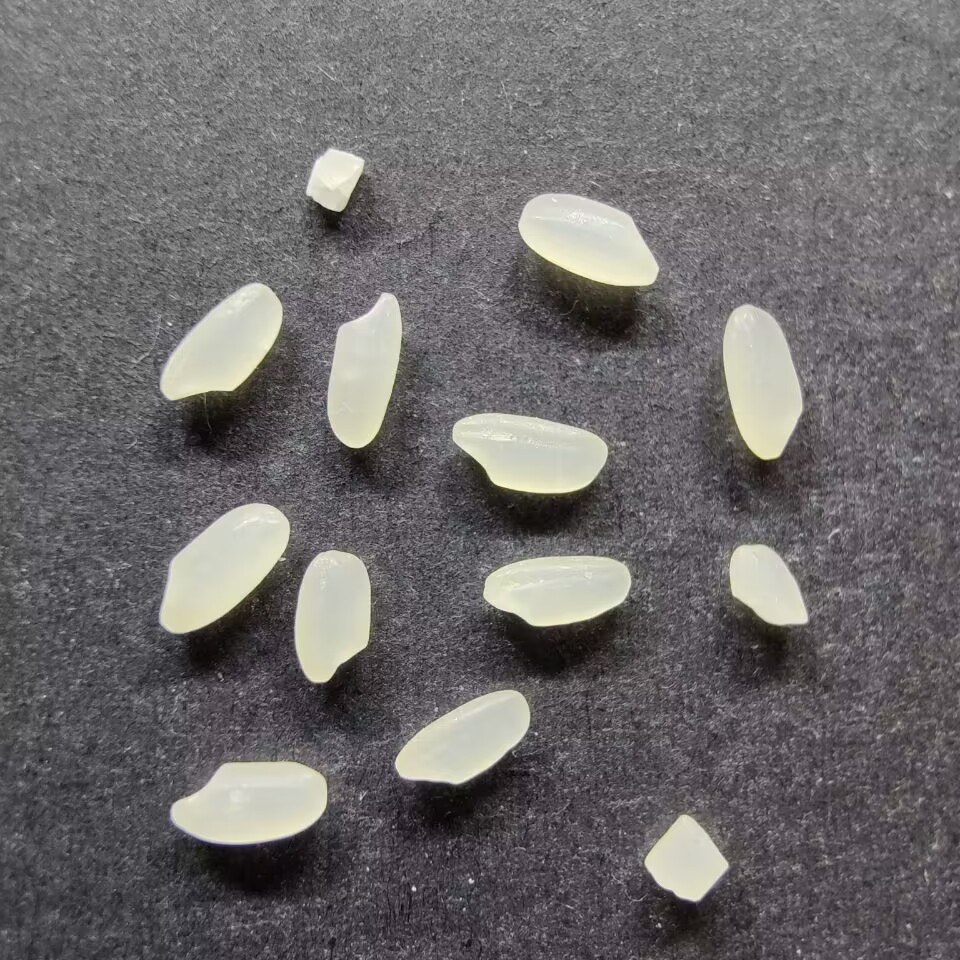broken: (642, 811, 732, 904), (727, 543, 811, 628), (302, 147, 367, 213)
rice: (157, 500, 291, 635), (158, 281, 284, 403), (167, 758, 330, 847), (516, 191, 660, 289), (392, 689, 531, 786), (450, 411, 610, 495), (720, 303, 805, 461), (324, 290, 403, 450), (481, 553, 632, 628), (292, 548, 373, 685)
